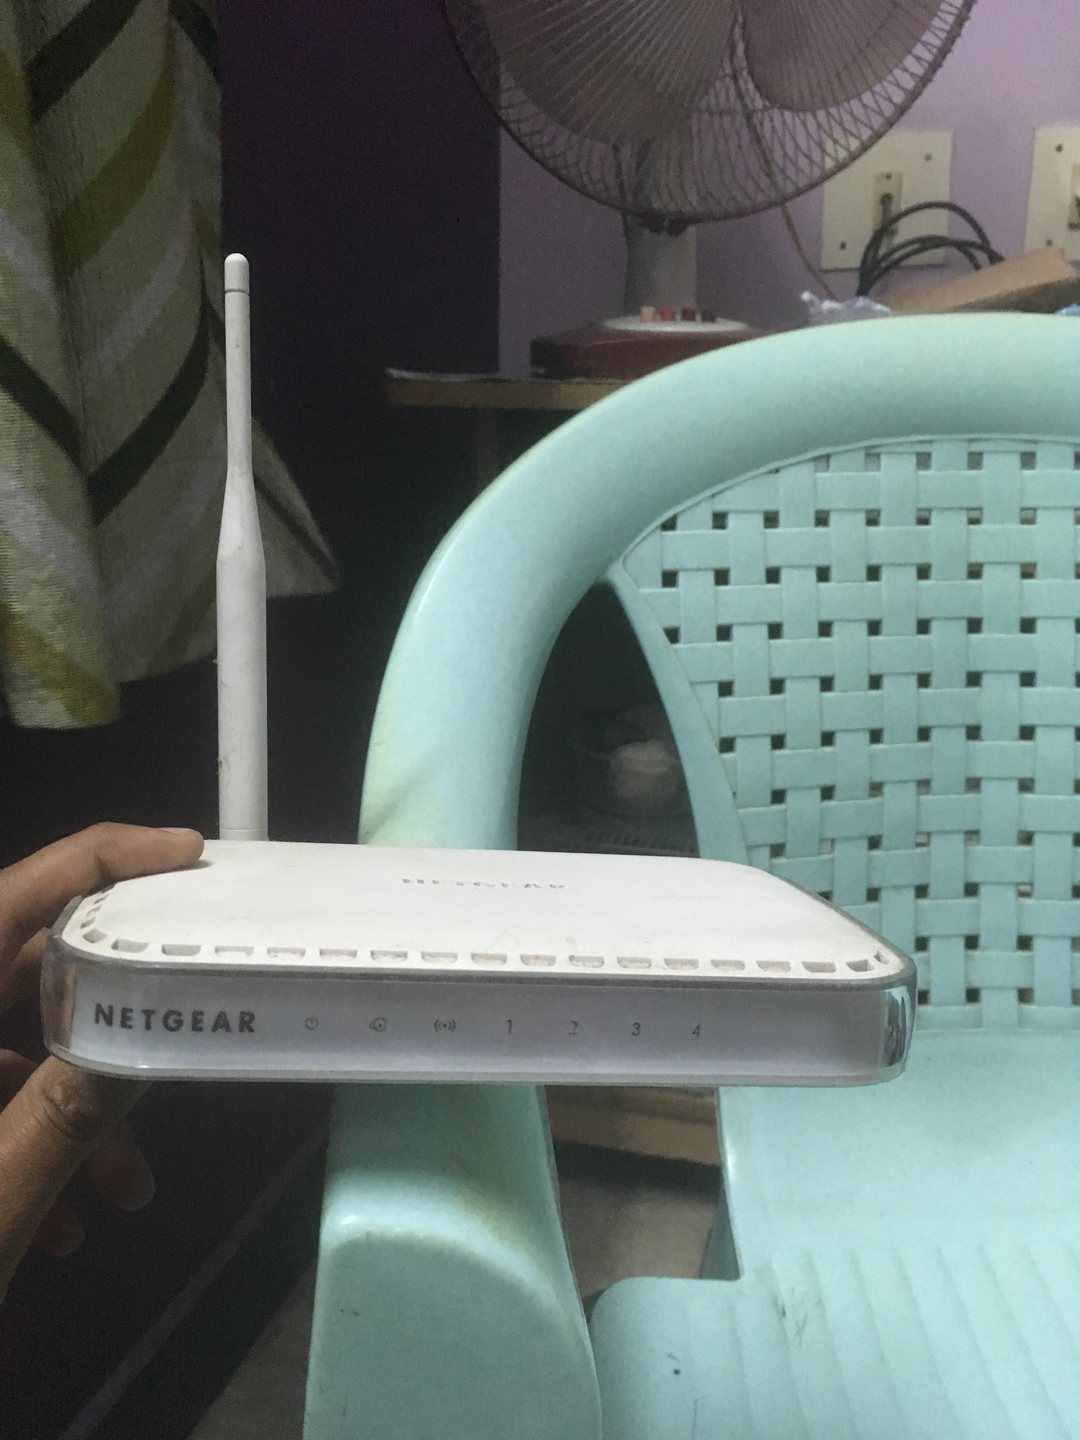NETGEAR: (87, 994, 265, 1044)
modem: (39, 938, 928, 1093)
